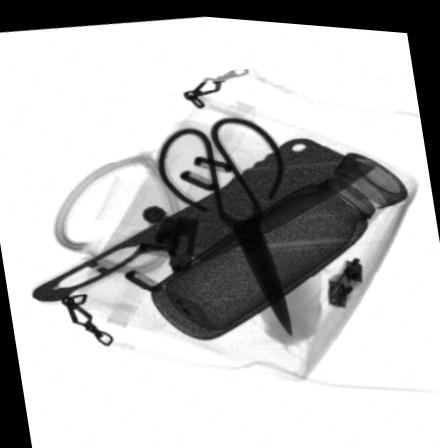Knife: (30, 131, 376, 303)
Scissors: (158, 111, 294, 334)
